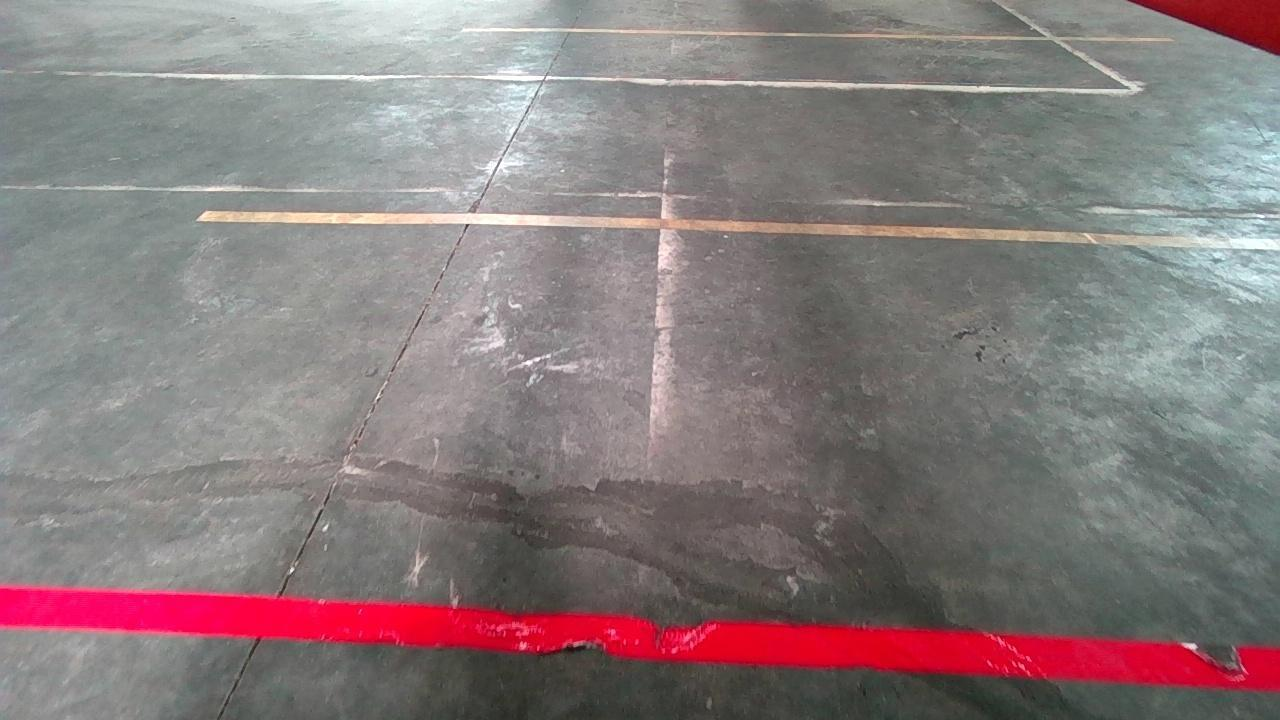red_line: (2, 581, 1280, 688)
yellow_line: (193, 210, 1280, 248)
